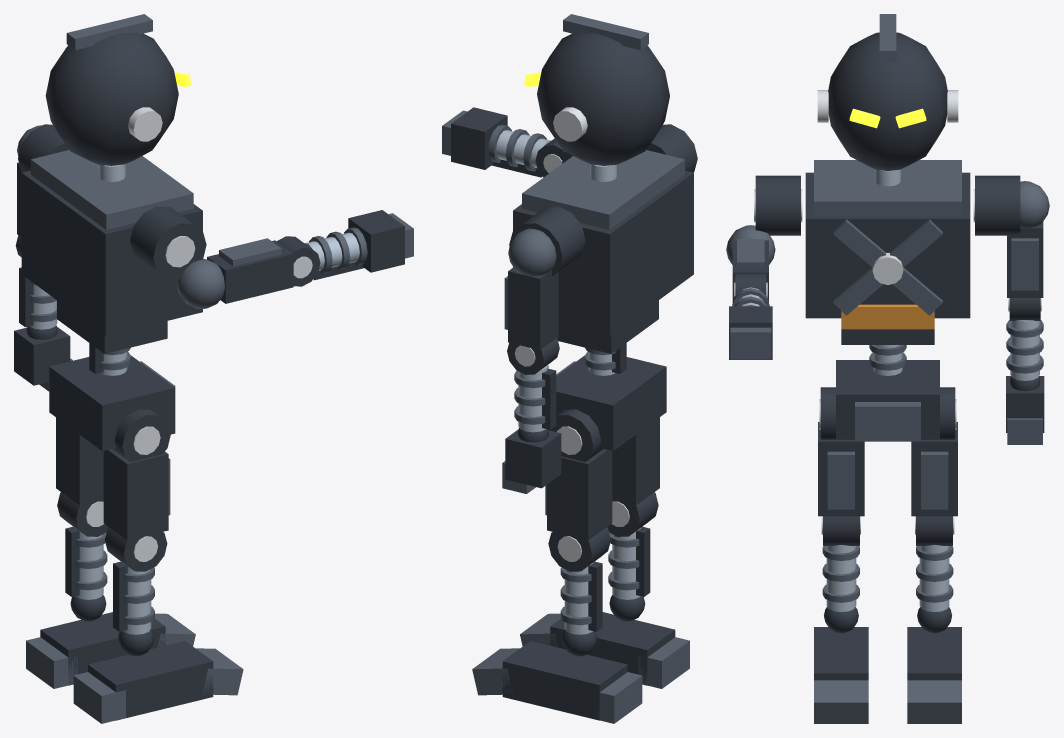
The model's file is knight_rig.glb.
The picture shows the model from 3 angles, left to right: view 1: azimuth 30°, elevation 25°; view 2: azimuth 150°, elevation 25°; view 3: azimuth 270°, elevation 25°; orthographic projection. The views are drawn at different scales.
Visible parts, largest first — view 1: chest, head, leg_R, foot_R, arm_R, leg_L, hips, foot_L, hand_R, arm_L, hand_L; view 2: chest, head, leg_L, arm_L, foot_L, leg_R, hips, foot_R, hand_L, arm_R, hand_R; view 3: chest, head, leg_L, leg_R, hips, arm_L, foot_L, foot_R, arm_R, hand_R, hand_L.
Part boxes in pixels (x1,y1,x2,y2): chest: [18, 124, 206, 375]; head: [45, 14, 191, 165]; leg_R: [103, 409, 170, 656]; foot_R: [73, 641, 243, 723]; arm_R: [176, 227, 367, 308]; leg_L: [56, 417, 108, 621]; hips: [49, 355, 175, 451]; foot_L: [26, 612, 195, 688]; hand_R: [348, 210, 413, 272]; arm_L: [15, 125, 57, 339]; hand_L: [14, 327, 72, 391]; chest: [509, 124, 697, 375]; head: [524, 14, 669, 165]; leg_L: [545, 409, 612, 656]; arm_L: [504, 228, 559, 442]; foot_L: [472, 641, 642, 723]; leg_R: [607, 417, 659, 621]; hips: [556, 355, 666, 451]; foot_R: [520, 612, 689, 688]; hand_L: [502, 429, 561, 493]; arm_R: [488, 124, 572, 177]; hand_R: [442, 107, 507, 169]; chest: [754, 160, 1020, 375]; head: [817, 14, 958, 170]; leg_L: [911, 387, 957, 633]; leg_R: [818, 387, 864, 633]; hips: [836, 360, 939, 441]; arm_L: [1006, 181, 1049, 390]; foot_L: [907, 627, 961, 723]; foot_R: [814, 627, 868, 723]; arm_R: [726, 225, 775, 306]; hand_R: [729, 306, 772, 359]; hand_L: [1006, 376, 1044, 444].
Bounding box in the file's own units: 0.5758 × 1.3 × 0.59.
